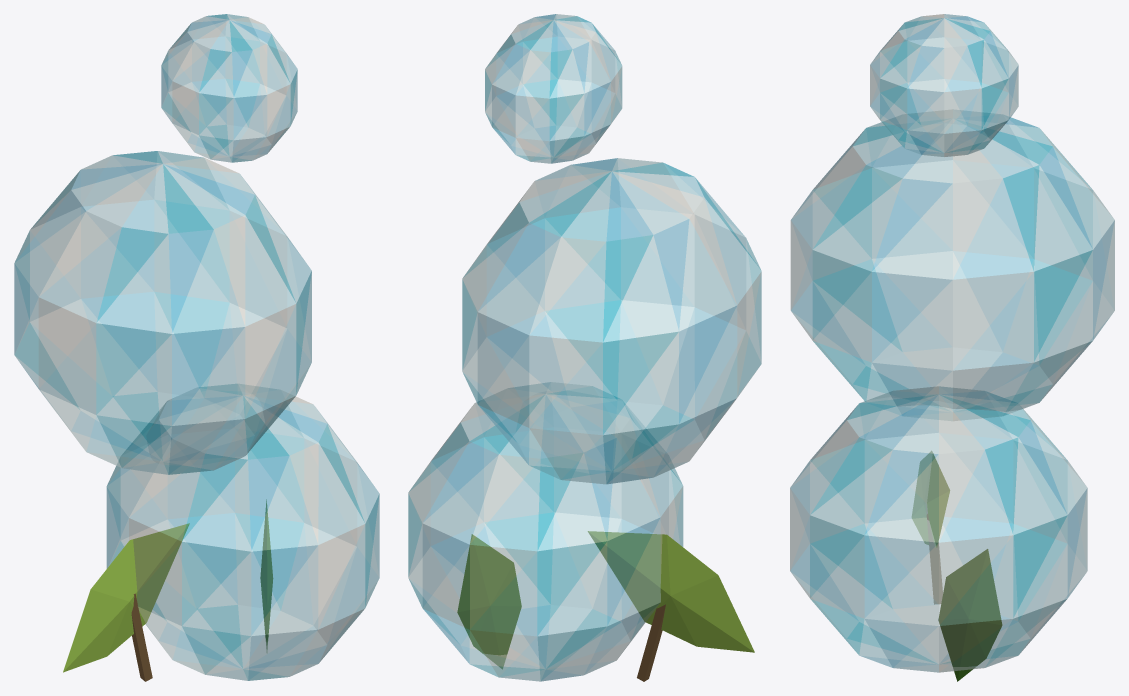
Rendered from bubble_sculpture.glb.
3 views of the same model, side by side, from view 1: azimuth 30°, elevation 25°; view 2: azimuth 150°, elevation 25°; view 3: azimuth 270°, elevation 25° (orthographic). The views are drawn at different scales.
Visible parts, largest first — view 1: Aero_bubble_sculpture; view 2: Aero_bubble_sculpture; view 3: Aero_bubble_sculpture.
Boxes of the visible parts, box(x1,y1,x2,y2) form: Aero_bubble_sculpture: box(14, 14, 379, 681); Aero_bubble_sculpture: box(408, 14, 761, 681); Aero_bubble_sculpture: box(790, 14, 1114, 681).
Bounding box in the file's own units: 1.35 × 2.7 × 1.24.
4 materials, 4 textured.
